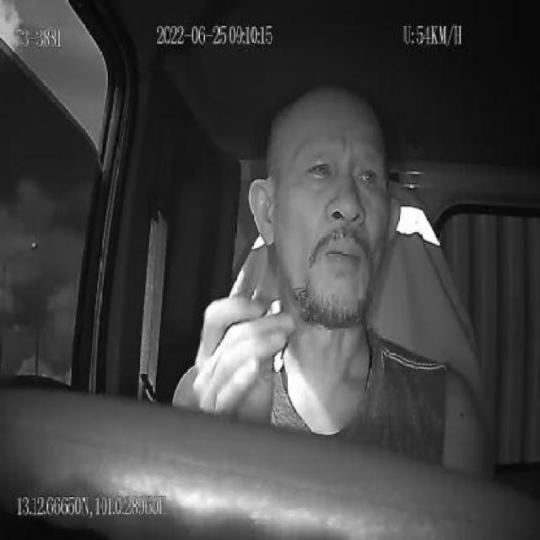smoking: (267, 294, 286, 379)
